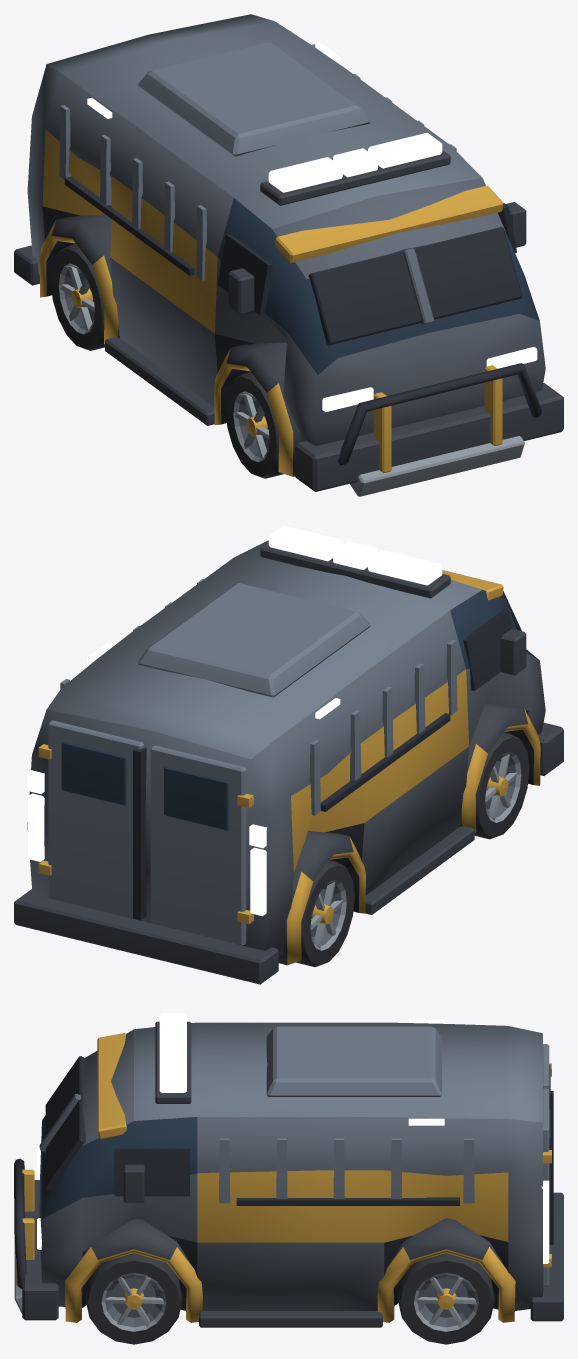
File: van.glb
3 views of the same model, one above another, from view 1: azimuth 30°, elevation 25°; view 2: azimuth 150°, elevation 25°; view 3: azimuth 270°, elevation 25° (orthographic). The views are drawn at different scales.
Parts seen in each view (by area): view 1: Body, Signal, Wheel_RL, Wheel_FL; view 2: Body, Signal, Wheel_RL, Wheel_FL; view 3: Body, Wheel_RR, Wheel_FR, Signal.
Boxes of the visible parts, <box> form: Body: <box>14,14,563,496</box>; Signal: <box>27,42,537,412</box>; Wheel_RL: <box>50,244,104,350</box>; Wheel_FL: <box>225,372,283,478</box>; Body: <box>14,540,563,984</box>; Signal: <box>27,525,442,916</box>; Wheel_RL: <box>296,860,354,966</box>; Wheel_FL: <box>474,732,529,839</box>; Body: <box>14,1021,563,1327</box>; Wheel_RR: <box>398,1253,494,1344</box>; Wheel_FR: <box>85,1253,182,1344</box>; Signal: <box>37,1013,549,1263</box>.
Bounding box in the file's own units: 1.97 × 1.78 × 3.65.
